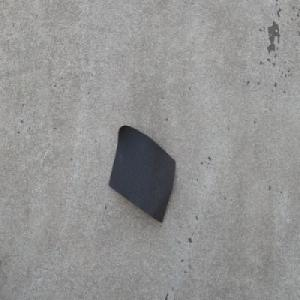PaintChip: (107, 124, 176, 224)
